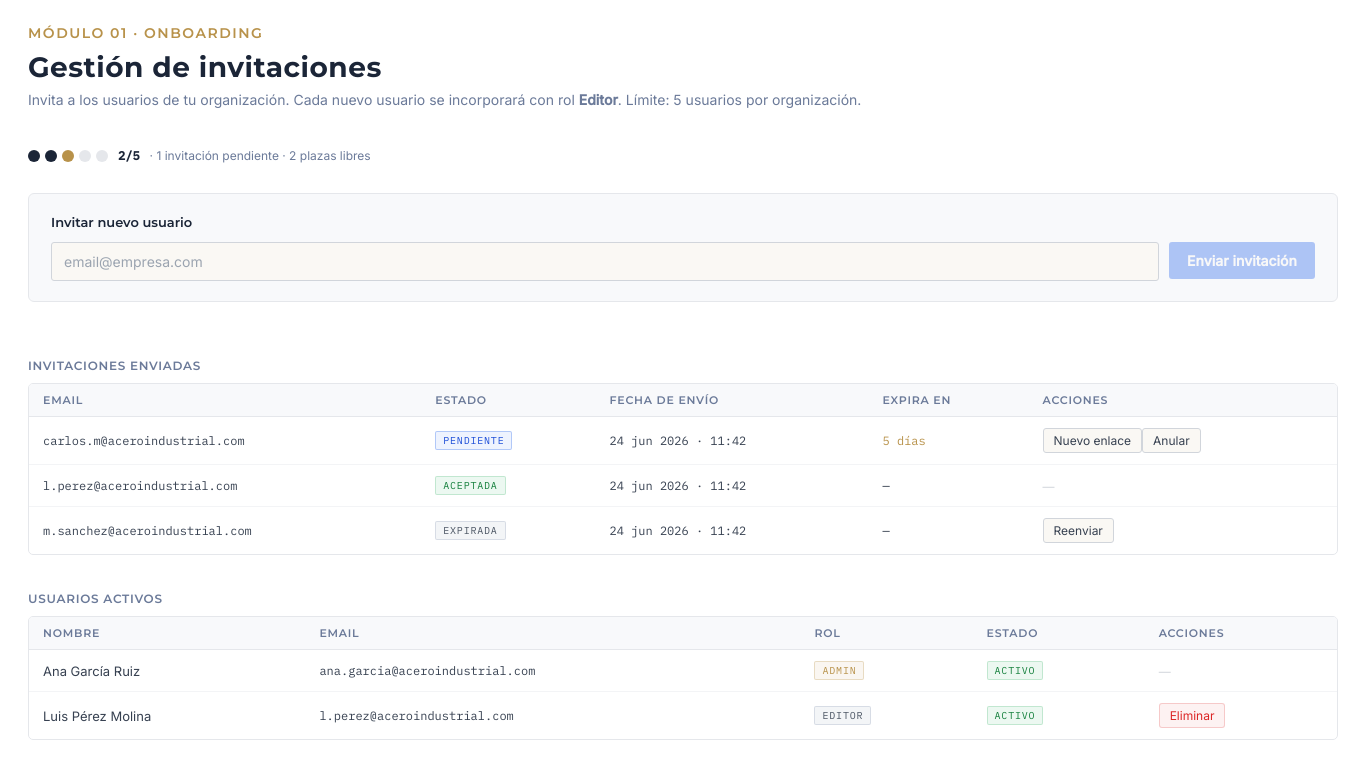
Test: INVT-01 · Invitations · invitar › si la invitación se registra pero el enlace falla, lo dice y deja pedir otro
Expected: the heading "Gestión de invitaciones" is shown, [28,50,382,84]
In the field named "Email del nuevo usuario": (605, 262) [51,242,1159,281], type "nuevo@empresa.test"
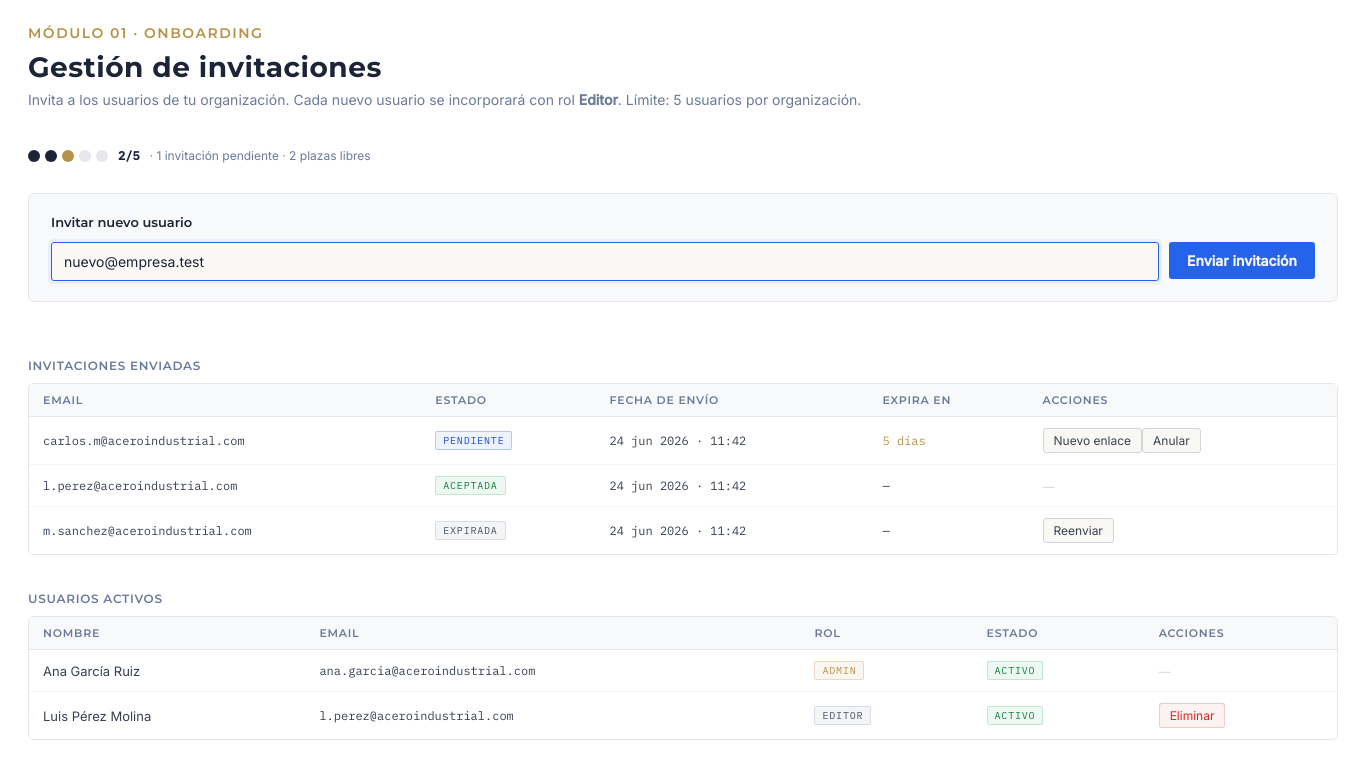
Expected: the button "Enviar invitación" is enabled
Click the button "Enviar invitación": (1242, 260) [1169,242,1315,279]
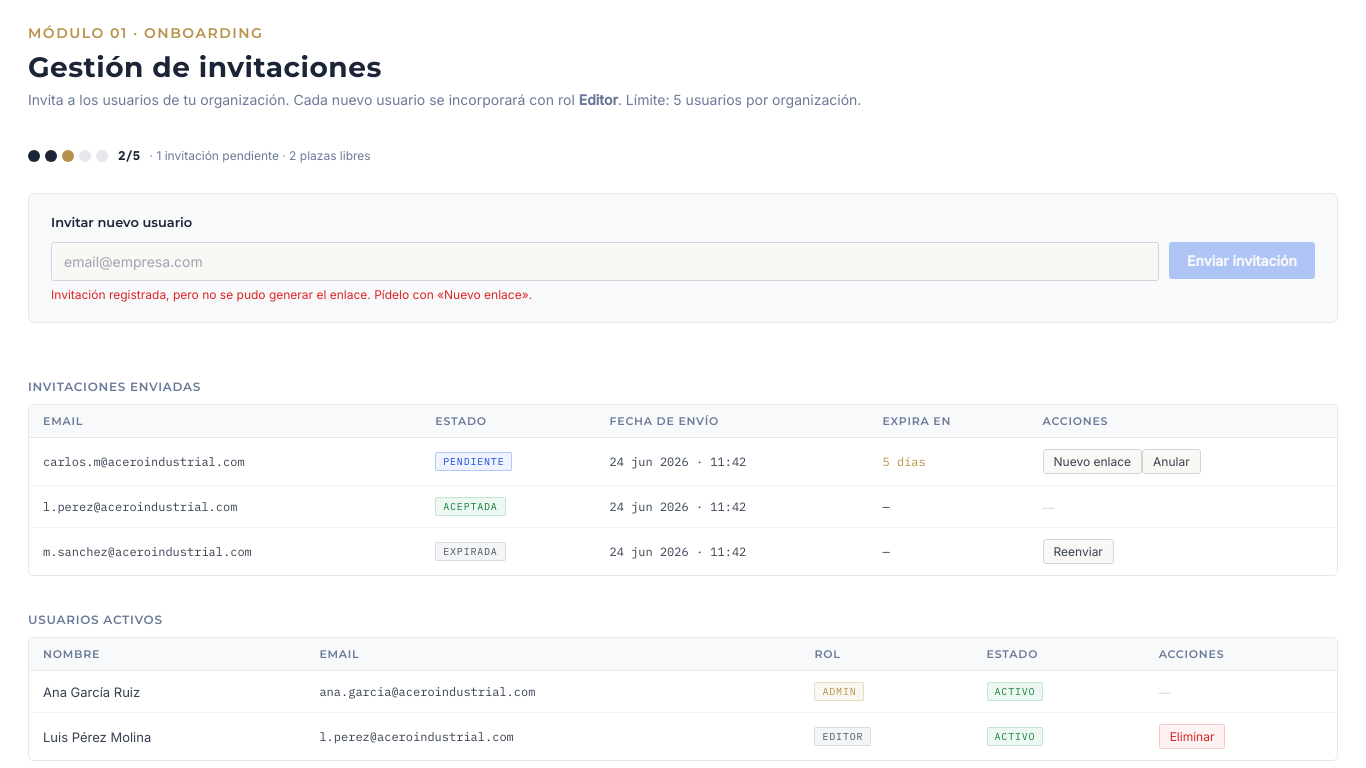
Expected: the message shows "no se pudo generar el enlace", [51,287,532,302]
